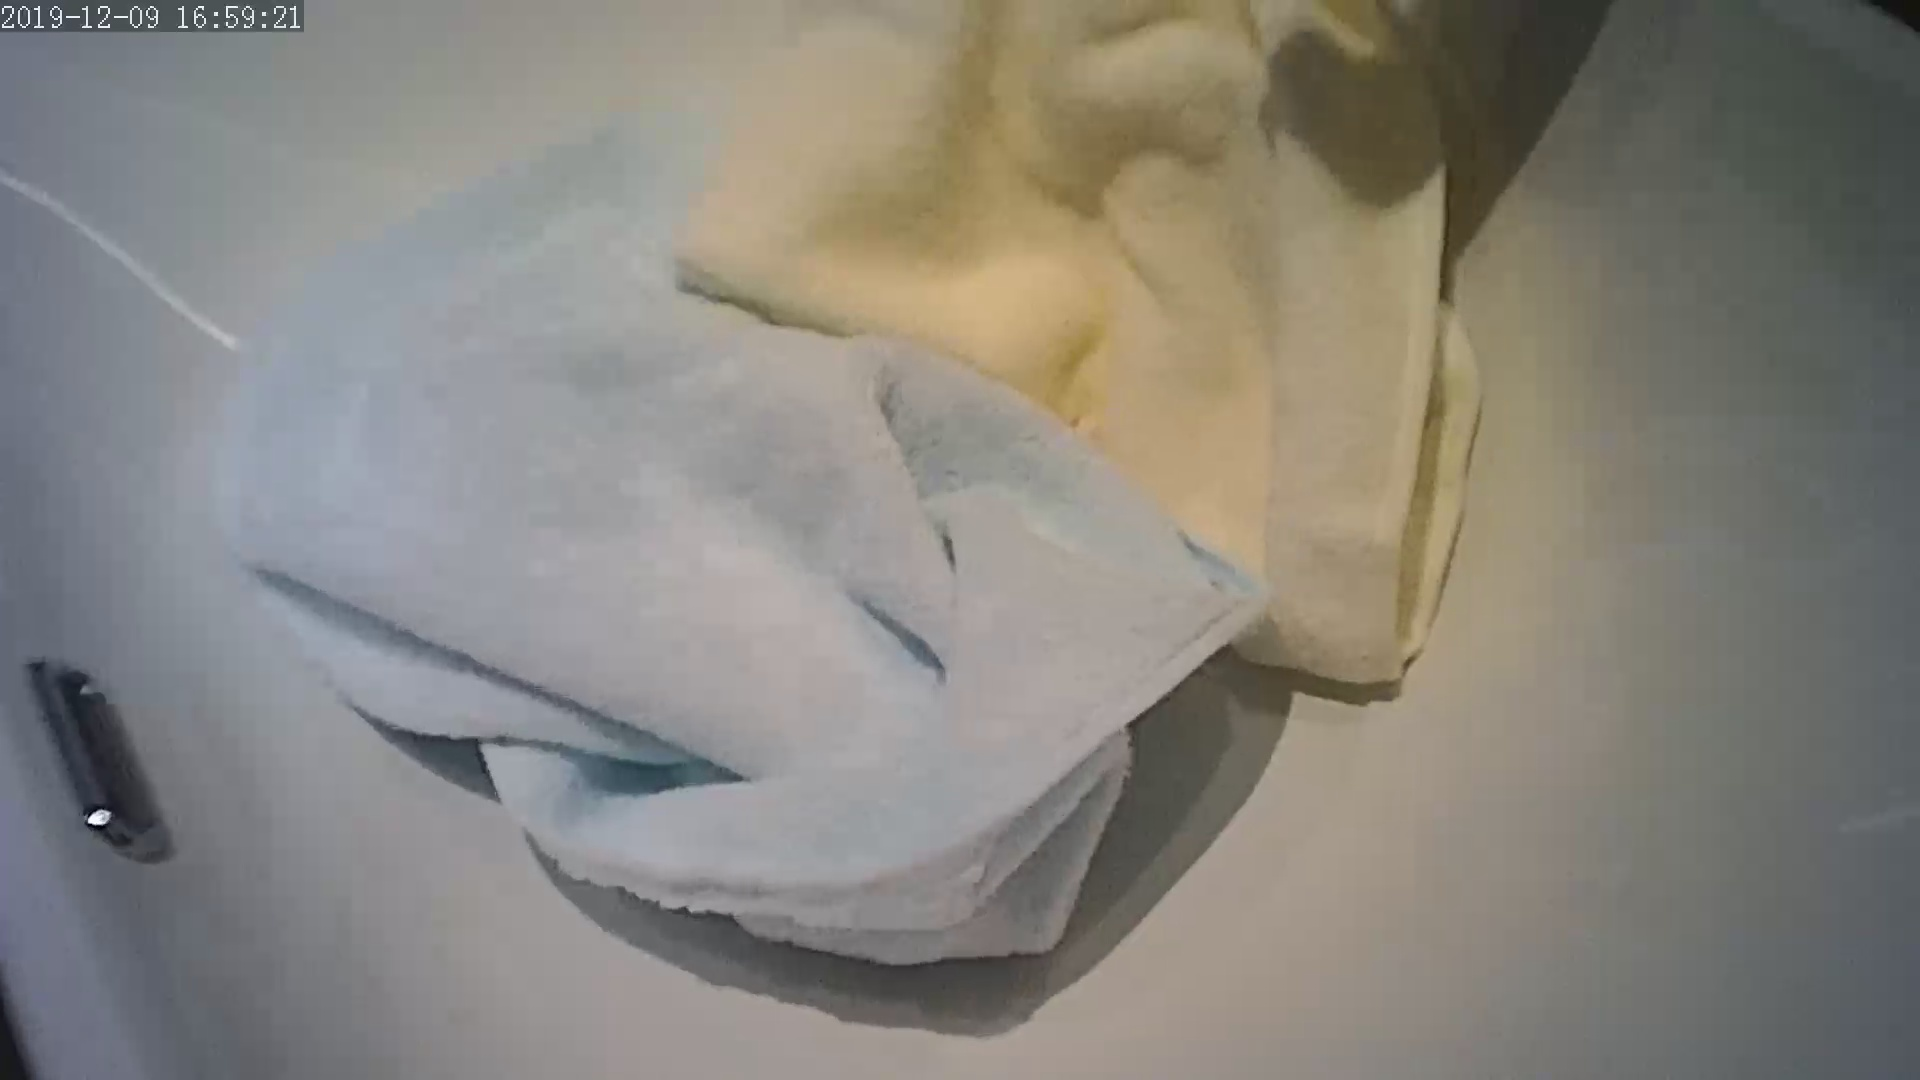bluecloth: (291, 266, 1163, 944)
sink: (11, 33, 1869, 1048)
yellowcloth: (765, 62, 1499, 568)
